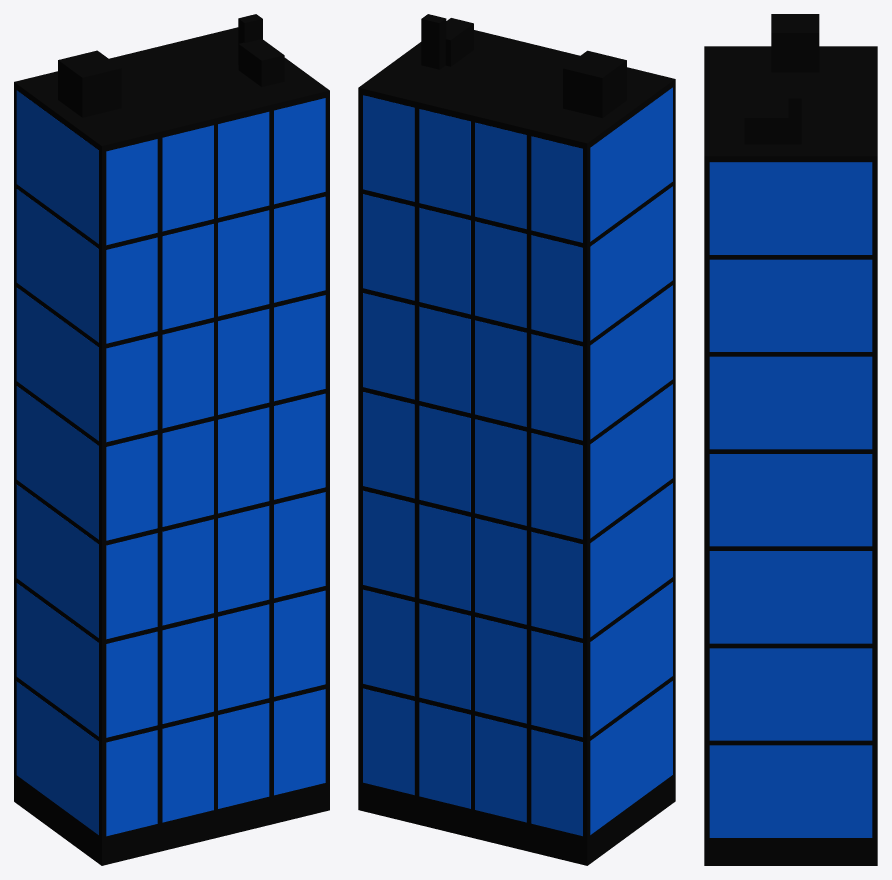
Rendered from buildingtype-b-001.fbx.
The picture shows the model from 3 angles, left to right: view 1: azimuth 30°, elevation 25°; view 2: azimuth 150°, elevation 25°; view 3: azimuth 270°, elevation 25°; orthographic projection.
Parts seen in each view (by area): view 1: Box153; view 2: Box153; view 3: Box153.
Part boxes in pixels (x1,y1,x2,y2): Box153: [14, 14, 329, 865]; Box153: [358, 14, 675, 865]; Box153: [704, 14, 877, 865].
Bounding box in the file's own units: 12010 × 38509 × 8010.
